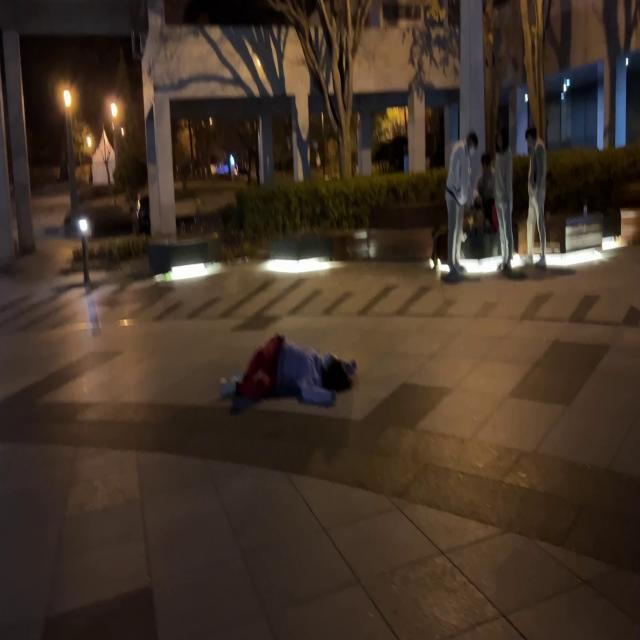Fall: (220, 335, 357, 406)
Stand: (446, 133, 479, 282), (529, 128, 548, 268), (496, 130, 514, 274)
